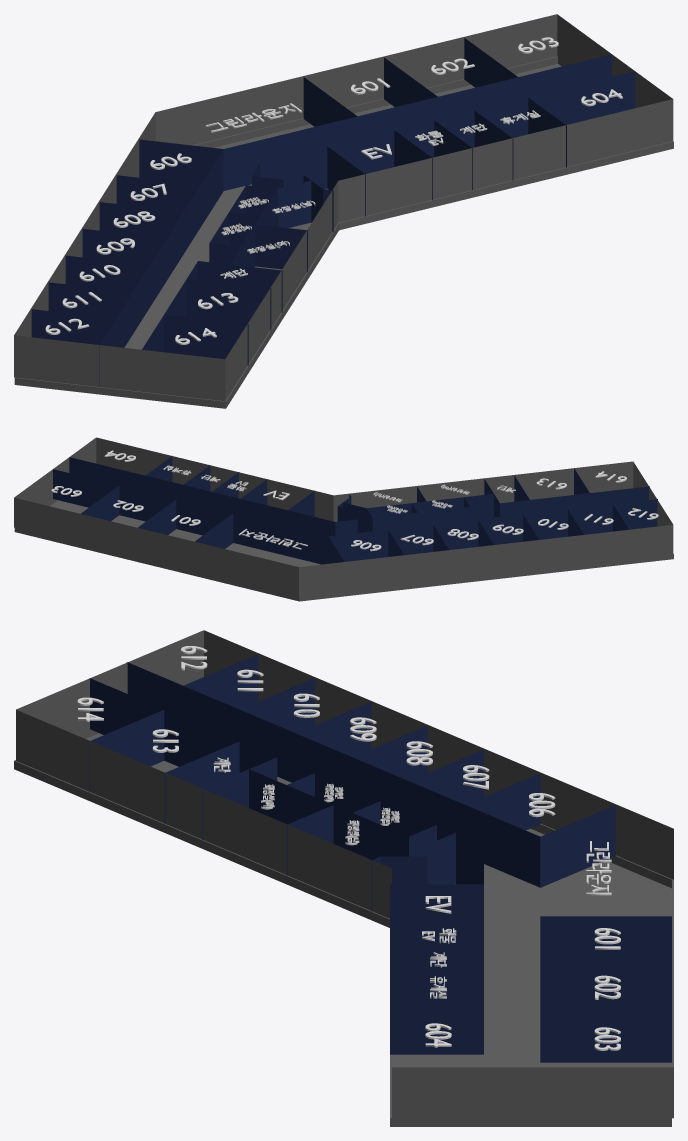
Rendered from 6floor.glb.
3 views of the same model, one above another, from view 1: azimuth 30°, elevation 25°; view 2: azimuth 150°, elevation 25°; view 3: azimuth 270°, elevation 25° (orthographic). The views are drawn at different scales.
Visible parts, largest first — view 1: InnerWalls_4F, FloorAndWalls_4F, 텍스트.013; view 2: FloorAndWalls_4F, InnerWalls_4F, 텍스트.013; view 3: InnerWalls_4F, FloorAndWalls_4F, 텍스트.013.
Boxes of the visible parts, x1=… form: InnerWalls_4F: x1=31, y1=38, x2=635, y2=386; FloorAndWalls_4F: x1=14, y1=14, x2=673, y2=408; 텍스트.013: x1=205, y1=103, x2=301, y2=132; FloorAndWalls_4F: x1=14, y1=437, x2=673, y2=601; InnerWalls_4F: x1=53, y1=456, x2=657, y2=564; 텍스트.013: x1=238, y1=529, x2=307, y2=549; InnerWalls_4F: x1=89, y1=654, x2=671, y2=1062; FloorAndWalls_4F: x1=14, y1=630, x2=673, y2=1126; 텍스트.013: x1=586, y1=841, x2=611, y2=895.
Bounding box in the file's own units: 550 × 35.5 × 351.
